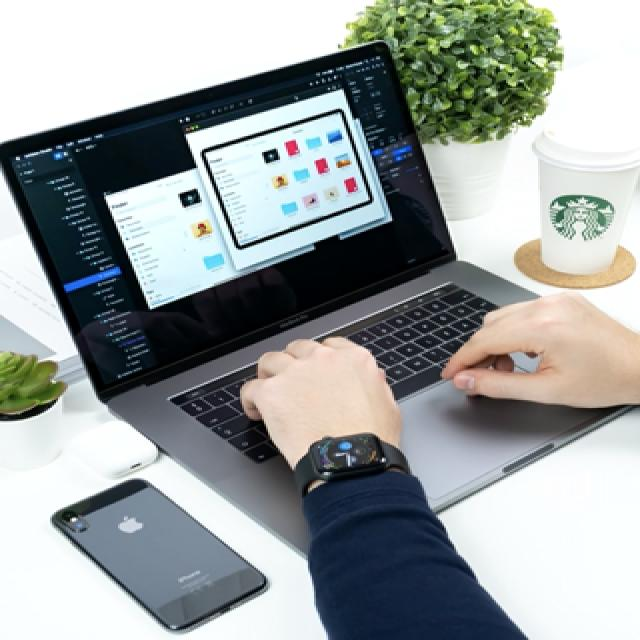cellphone: (48, 476, 268, 634)
